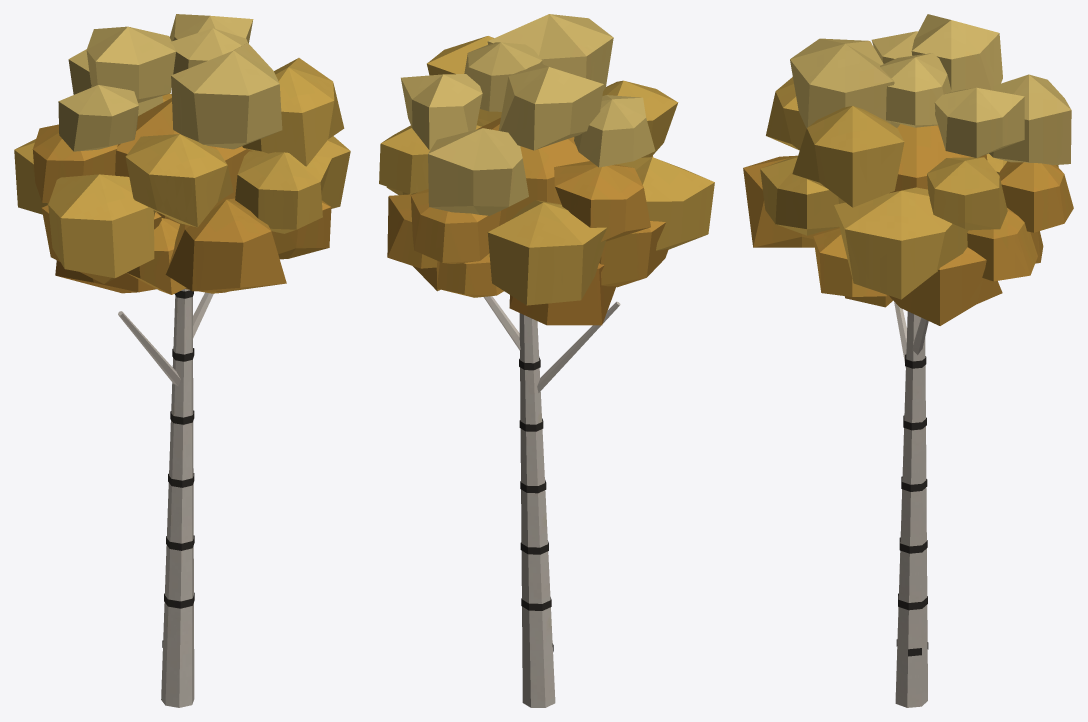
File: tree_birch_01_autumn.glb
3 renders of one model, left to right at view 1: azimuth 30°, elevation 25°; view 2: azimuth 150°, elevation 25°; view 3: azimuth 270°, elevation 25°, orthographic.
Visible parts, largest first — view 1: tree_birch_01_autumn; view 2: tree_birch_01_autumn; view 3: tree_birch_01_autumn.
Boxes of the visible parts, bbox=[...] form: tree_birch_01_autumn: bbox=[14, 14, 350, 707]; tree_birch_01_autumn: bbox=[379, 14, 714, 707]; tree_birch_01_autumn: bbox=[743, 14, 1073, 707].
Bounding box in the file's own units: 3.12 × 6.48 × 2.91.
6 materials, 6 textured.
